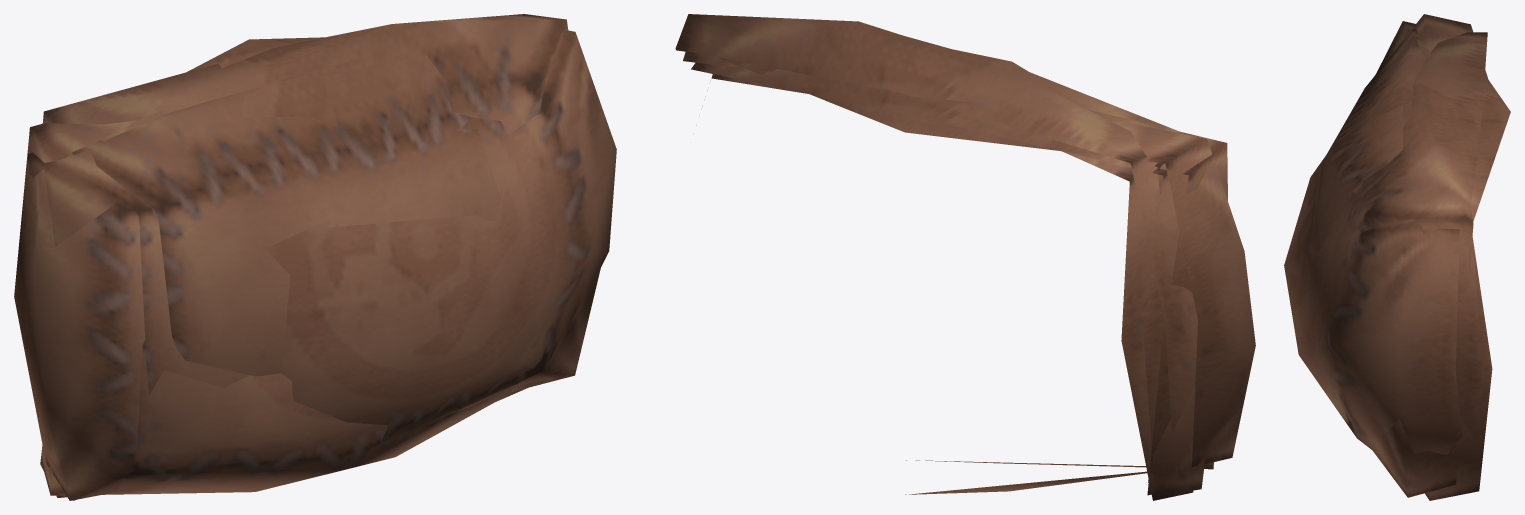
The model's file is sandbags_set.glb.
3 renders of one model, left to right at view 1: azimuth 30°, elevation 25°; view 2: azimuth 150°, elevation 25°; view 3: azimuth 270°, elevation 25°, orthographic. The views are drawn at different scales.
Parts seen in each view (by area): view 1: battlefield.sandbags_set-MeshSets[sandbag_02].Mesh[0], battlefield.sandbags_set-MeshSets[sandbag_05].Mesh[0], battlefield.sandbags_set-MeshSets[sandbag_04].Mesh[0], battlefield.sandbags_set-MeshSets[sandbag_03].Mesh[0], battlefield.sandbags_set-MeshSets[sandbag_01].Mesh[0], battlefield.sandbags_set-MeshSets[sandbag_06].Mesh[0]; view 2: battlefield.sandbags_set-MeshSets[sandbag_01].Mesh[0], battlefield.sandbags_set-MeshSets[sandbag_04].Mesh[0], battlefield.sandbags_set-MeshSets[sandbag_03].Mesh[0], battlefield.sandbags_set-MeshSets[sandbag_02].Mesh[0], battlefield.sandbags_set-MeshSets[sandbag_06].Mesh[0], battlefield.sandbags_set-MeshSets[sandbag_05].Mesh[0]; view 3: battlefield.sandbags_set-MeshSets[sandbag_02].Mesh[0], battlefield.sandbags_set-MeshSets[sandbag_01].Mesh[0], battlefield.sandbags_set-MeshSets[sandbag_05].Mesh[0], battlefield.sandbags_set-MeshSets[sandbag_03].Mesh[0], battlefield.sandbags_set-MeshSets[sandbag_06].Mesh[0], battlefield.sandbags_set-MeshSets[sandbag_04].Mesh[0].
Part boxes in pixels (x1=…): battlefield.sandbags_set-MeshSets[sandbag_02].Mesh[0]: x1=40, y1=30, x2=616, y2=497; battlefield.sandbags_set-MeshSets[sandbag_05].Mesh[0]: x1=72, y1=55, x2=601, y2=391; battlefield.sandbags_set-MeshSets[sandbag_04].Mesh[0]: x1=14, y1=120, x2=145, y2=500; battlefield.sandbags_set-MeshSets[sandbag_03].Mesh[0]: x1=41, y1=37, x2=513, y2=495; battlefield.sandbags_set-MeshSets[sandbag_01].Mesh[0]: x1=42, y1=14, x2=568, y2=500; battlefield.sandbags_set-MeshSets[sandbag_06].Mesh[0]: x1=27, y1=111, x2=527, y2=401; battlefield.sandbags_set-MeshSets[sandbag_01].Mesh[0]: x1=675, y1=14, x2=1213, y2=469; battlefield.sandbags_set-MeshSets[sandbag_04].Mesh[0]: x1=718, y1=57, x2=1255, y2=494; battlefield.sandbags_set-MeshSets[sandbag_03].Mesh[0]: x1=691, y1=62, x2=1205, y2=495; battlefield.sandbags_set-MeshSets[sandbag_02].Mesh[0]: x1=676, y1=46, x2=1193, y2=500; battlefield.sandbags_set-MeshSets[sandbag_06].Mesh[0]: x1=711, y1=74, x2=1227, y2=495; battlefield.sandbags_set-MeshSets[sandbag_05].Mesh[0]: x1=683, y1=36, x2=1187, y2=482; battlefield.sandbags_set-MeshSets[sandbag_02].Mesh[0]: x1=1284, y1=78, x2=1462, y2=454; battlefield.sandbags_set-MeshSets[sandbag_01].Mesh[0]: x1=1350, y1=32, x2=1487, y2=299; battlefield.sandbags_set-MeshSets[sandbag_05].Mesh[0]: x1=1309, y1=28, x2=1473, y2=497; battlefield.sandbags_set-MeshSets[sandbag_03].Mesh[0]: x1=1455, y1=75, x2=1510, y2=440; battlefield.sandbags_set-MeshSets[sandbag_06].Mesh[0]: x1=1376, y1=21, x2=1492, y2=500; battlefield.sandbags_set-MeshSets[sandbag_04].Mesh[0]: x1=1413, y1=14, x2=1487, y2=78.
Size of the model in its own units: 1.75 by 1.21 by 0.7381.
1 material, 1 textured.
